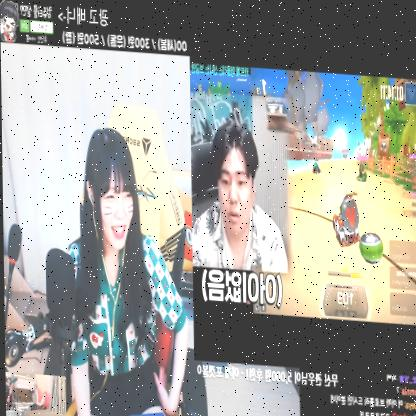donation: (190, 60, 416, 389)
streamer: (65, 124, 188, 416)
